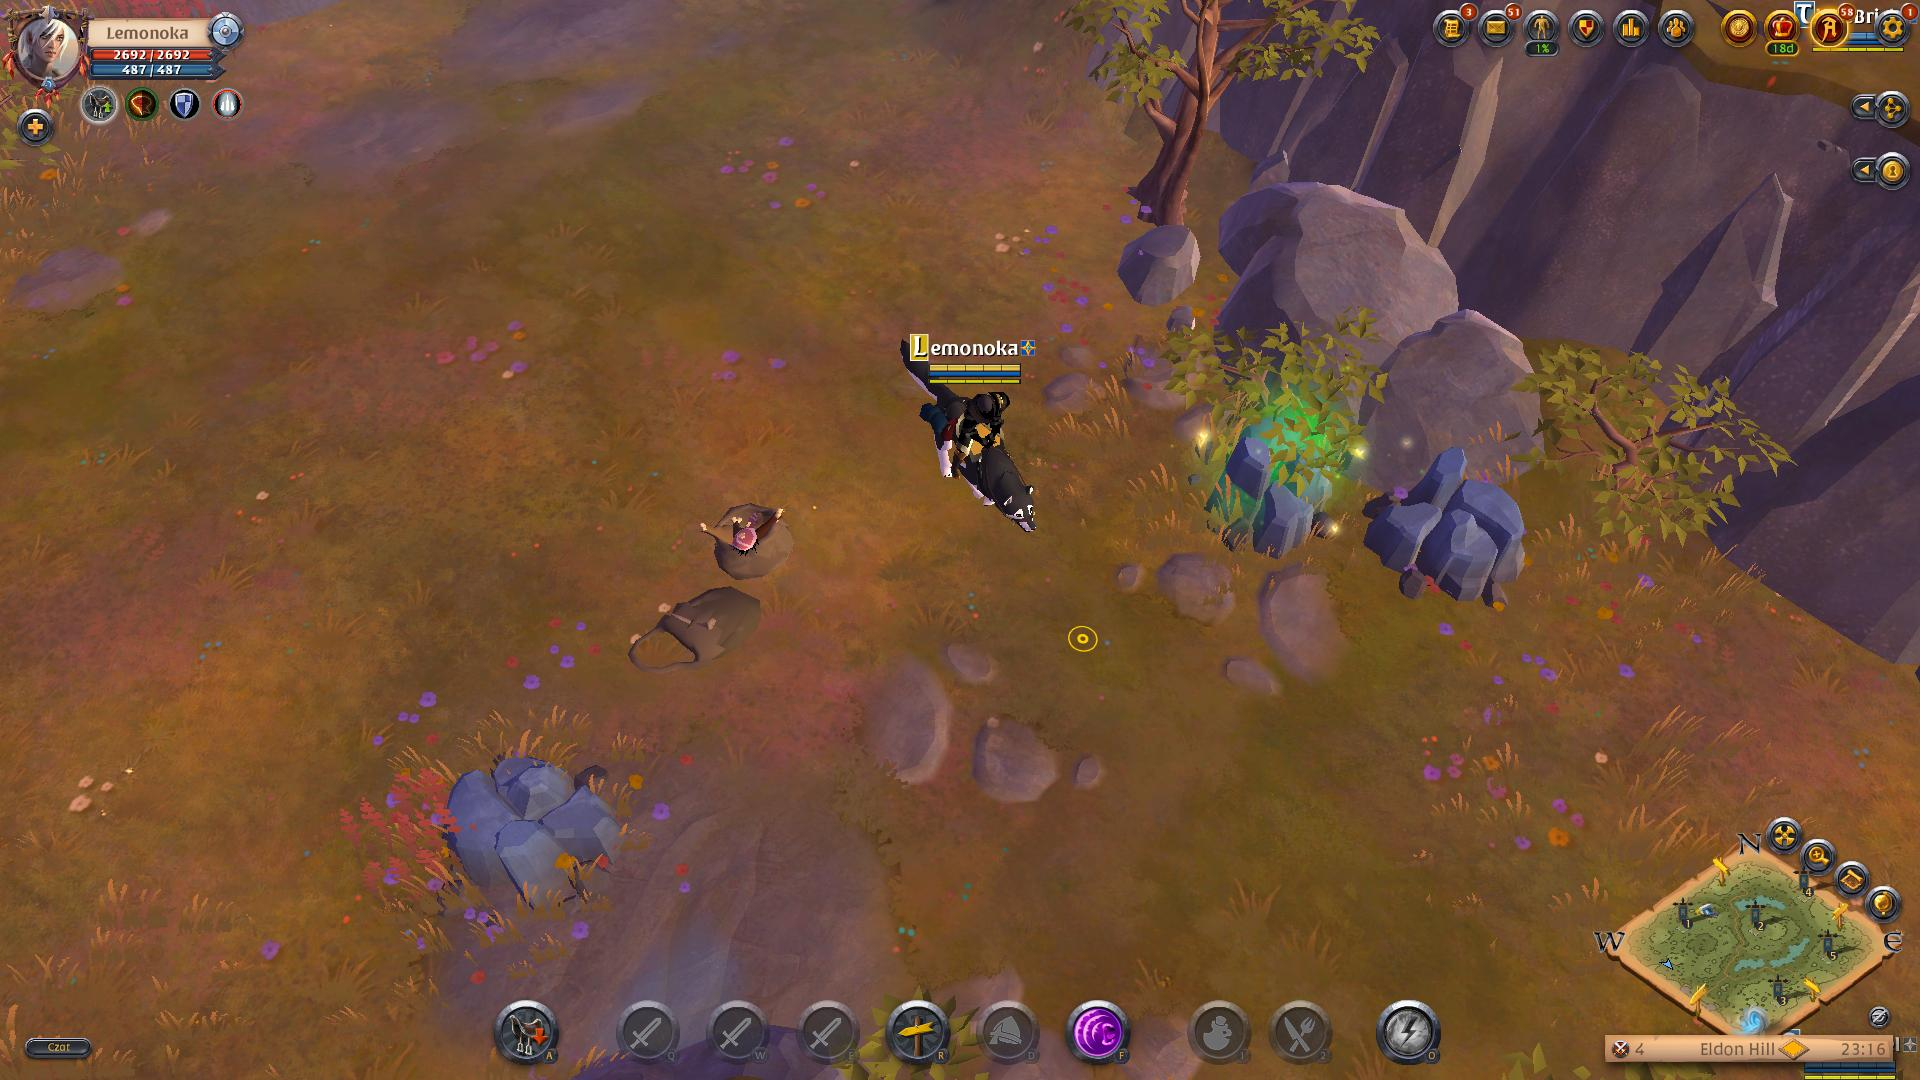rock tier 4: (436, 748, 624, 911), (1358, 444, 1534, 613), (1207, 388, 1356, 562)
